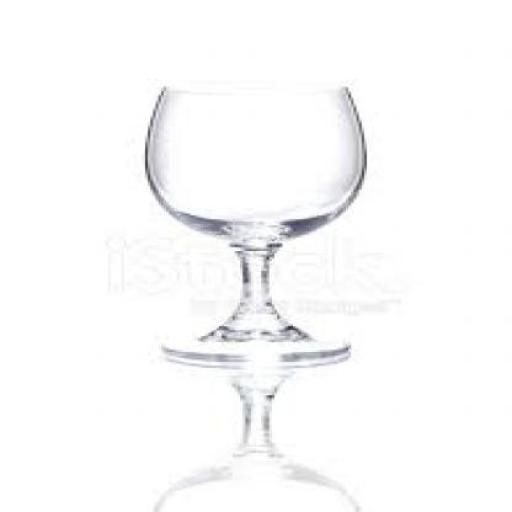glass: (143, 81, 364, 360)
